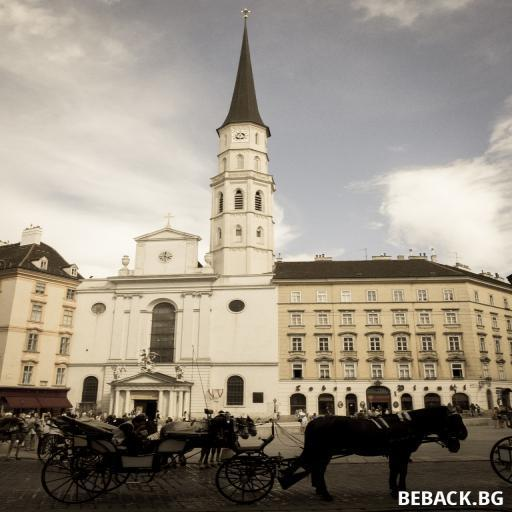horse: (299, 431, 464, 494), (156, 412, 260, 470), (6, 418, 32, 462)
